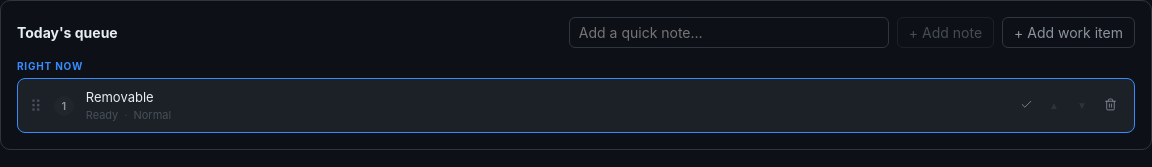
Test: DailyQueue › removes a task
Expected: the text "Removable" is shown, [86,89,154,105]
Click the button named "remove removable". click: (1110, 106)
box: [1098,94,1122,118]
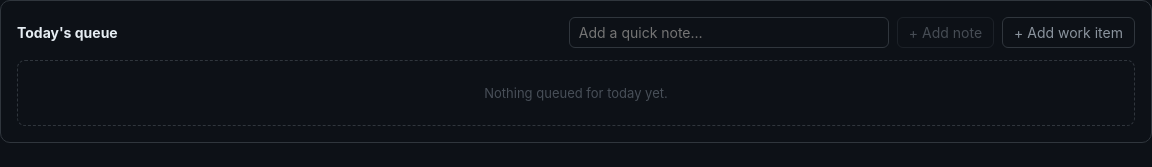
Expected: the text "Nothing queued for today yet." is shown, [17,60,1135,126]
